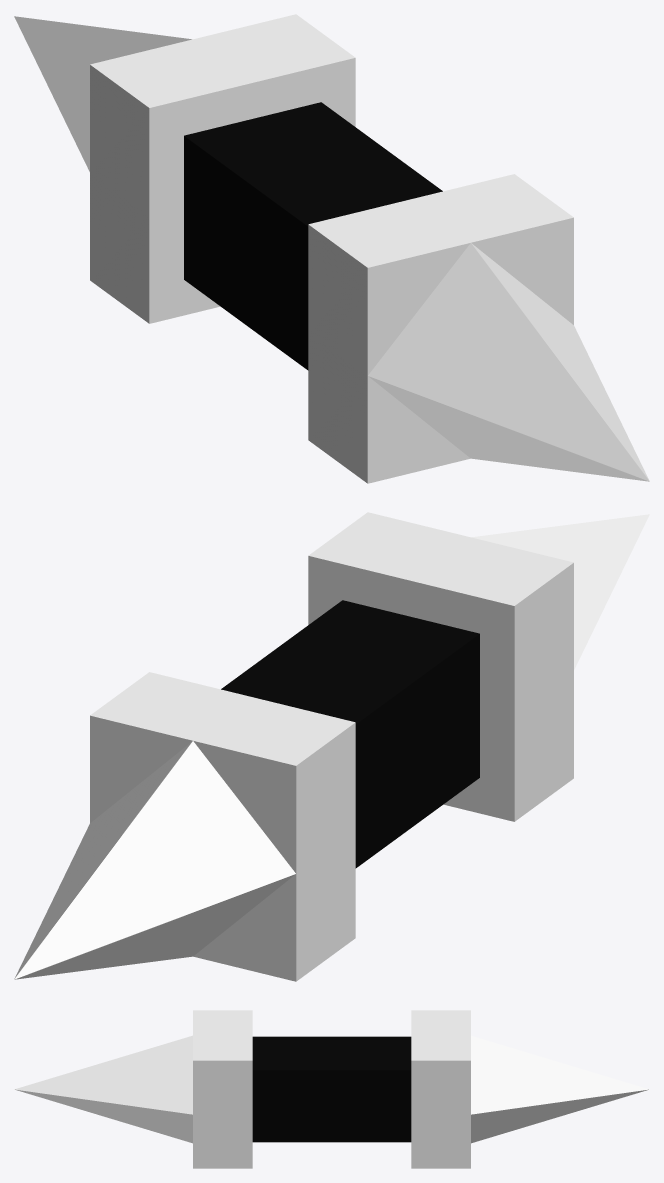
The model's file is EnemyWeapon.obj.
3 views of the same model, one above another, from view 1: azimuth 30°, elevation 25°; view 2: azimuth 150°, elevation 25°; view 3: azimuth 270°, elevation 25° (orthographic). The views are drawn at different scales.
Parts seen in each view (by area): view 1: Cube; view 2: Cube; view 3: Cube.
Boxes of the visible parts, bbox=[...] form: Cube: bbox=[14, 14, 649, 483]; Cube: bbox=[14, 512, 649, 981]; Cube: bbox=[14, 1010, 649, 1168].
Size of the model in its own units: 0.96 by 0.96 by 5.13.
